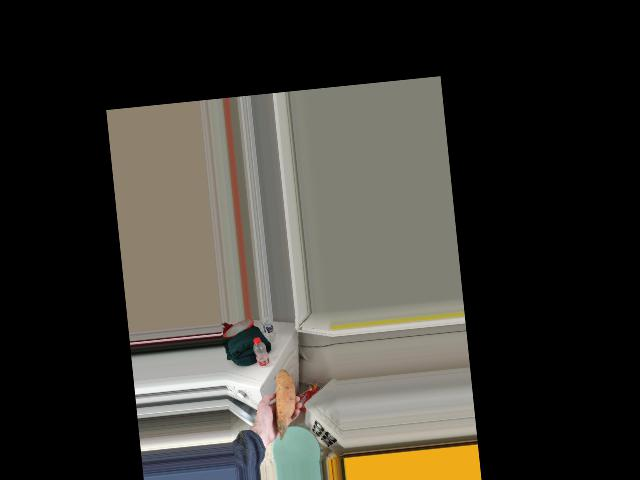sweet_potato: (271, 369, 300, 430)
